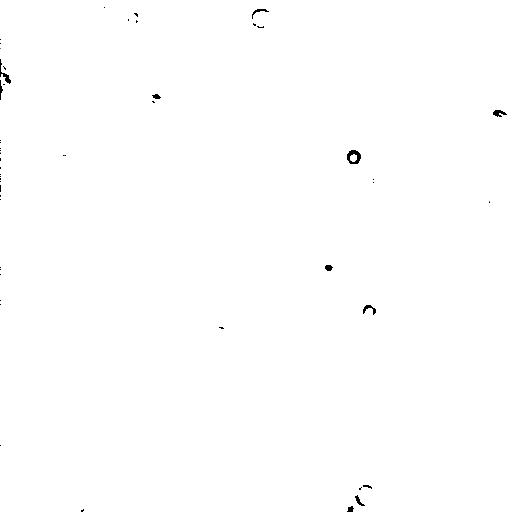micro-algae: (291, 154, 331, 199), (285, 333, 319, 365), (484, 103, 511, 127), (317, 252, 341, 279), (353, 482, 378, 506), (371, 168, 393, 195), (50, 136, 79, 156), (497, 32, 512, 70), (93, 0, 122, 19), (477, 182, 503, 203), (249, 7, 273, 28), (373, 101, 395, 121), (329, 496, 356, 511), (361, 298, 379, 319), (1, 59, 10, 99), (344, 147, 361, 165), (125, 9, 142, 24), (1, 71, 13, 91), (77, 505, 96, 512)
